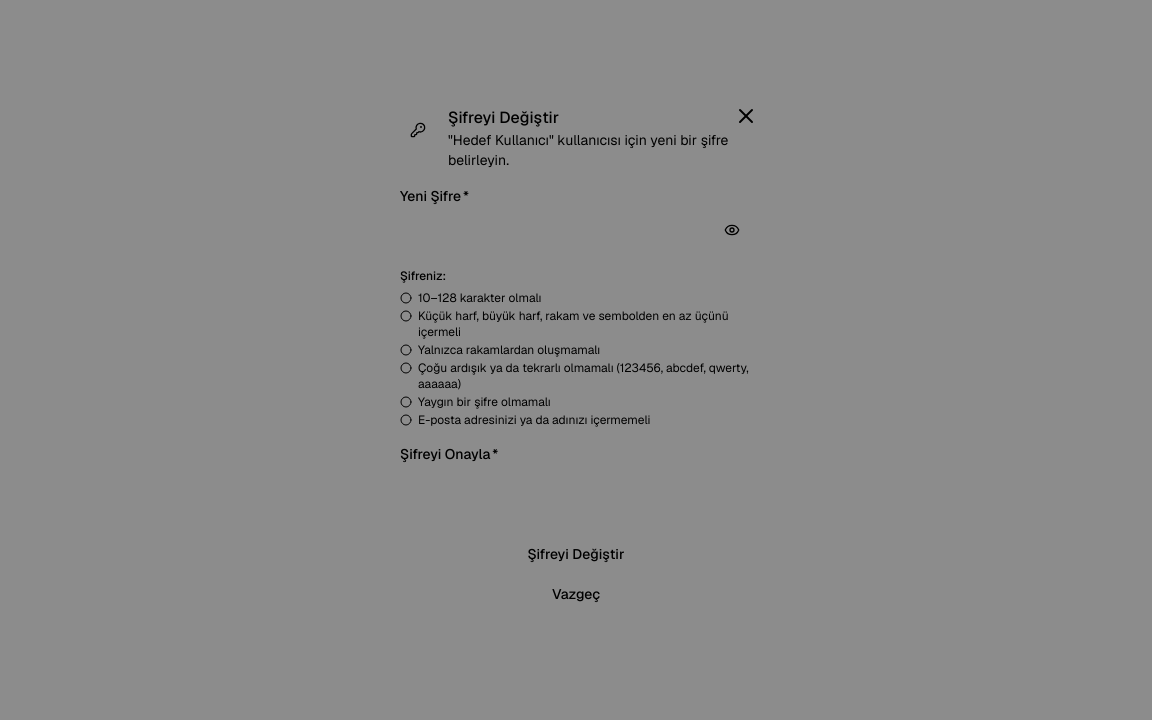
Test case: SetUserPasswordDialog — doğrulama › Paket S — kısa/zayıf şifrede canlı kural listesi ve güç göstergesi uyarır (asıl kontrol sunucuda)
In the password field labelled "Yeni Şifre*": (576, 230) [400,212,752,248], type "kisa1"
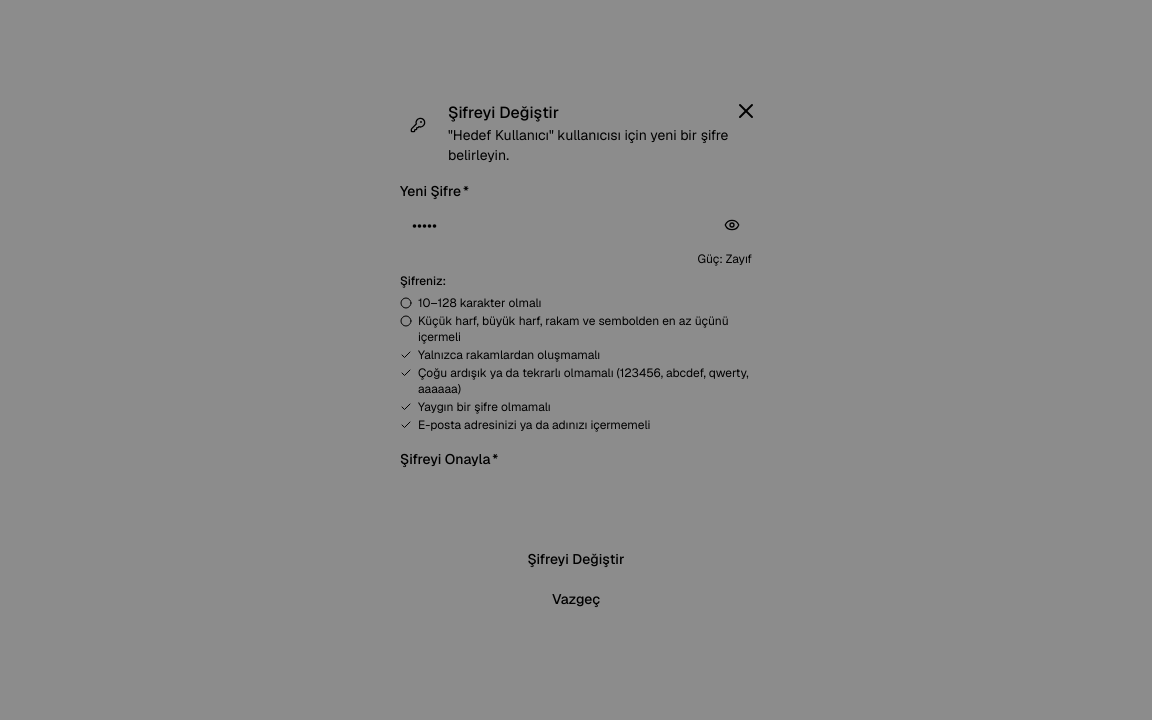
Result: the text with test id "password-strength" reads "Güç: Zayıf" at [698,251,752,267]
